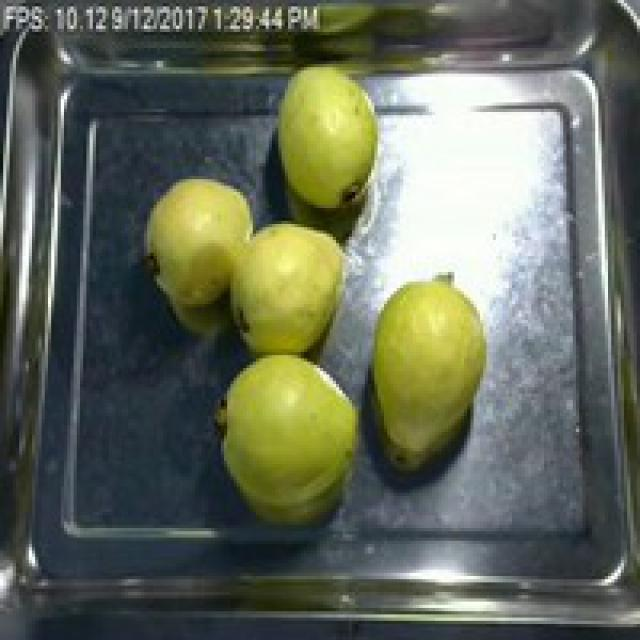Fruit: (211, 346, 371, 531), (362, 269, 499, 480), (218, 211, 358, 365), (266, 58, 390, 220), (140, 170, 266, 316)
